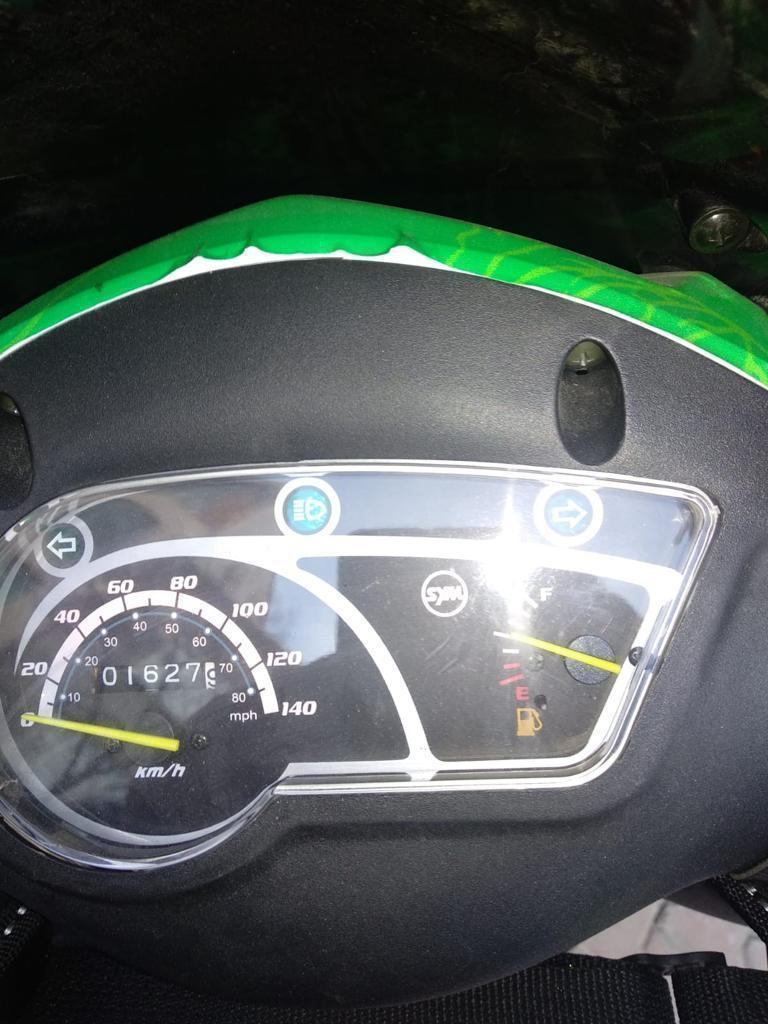0: (101, 664, 118, 688)
1: (126, 663, 136, 689)
2: (163, 662, 181, 684)
6: (141, 663, 159, 685)
7: (184, 660, 200, 685)
9: (205, 667, 218, 688)
odometer: (97, 659, 218, 694)
